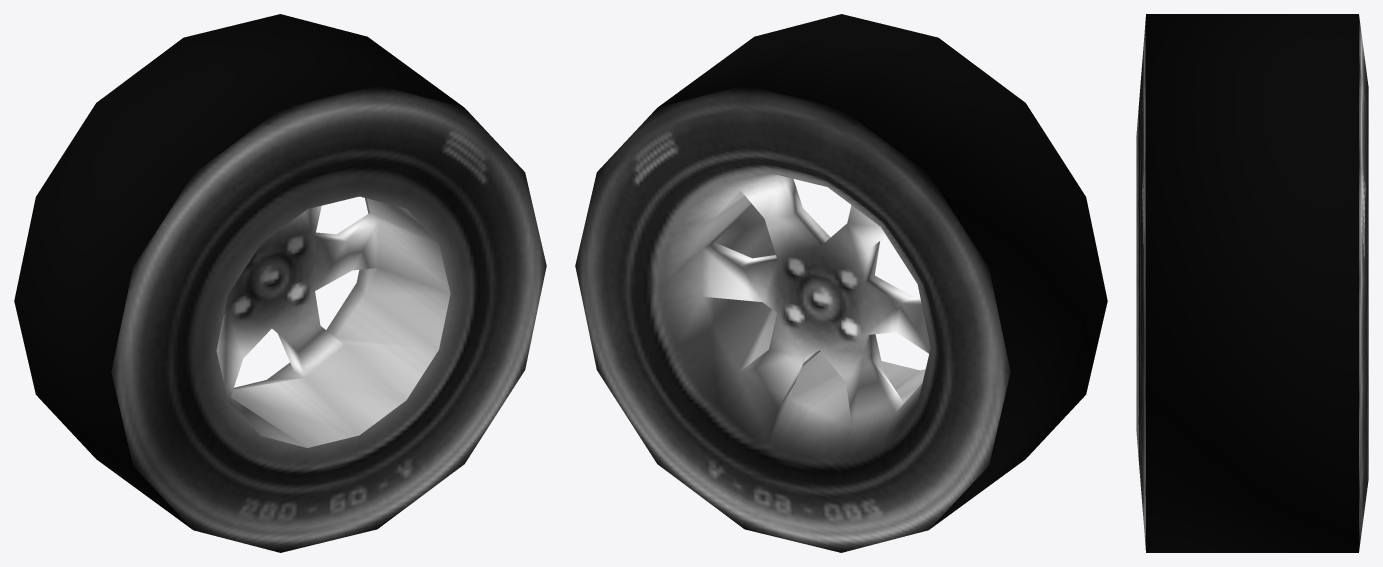
Rendered from COPY.ICN.obj.
3 views of the same model, side by side, from view 1: azimuth 30°, elevation 25°; view 2: azimuth 150°, elevation 25°; view 3: azimuth 270°, elevation 25° (orthographic). The views are drawn at different scales.
Bounding box in the file's own units: 3.67 × 3.58 × 1.55.
Materials: 1 (1 with a texture image).
